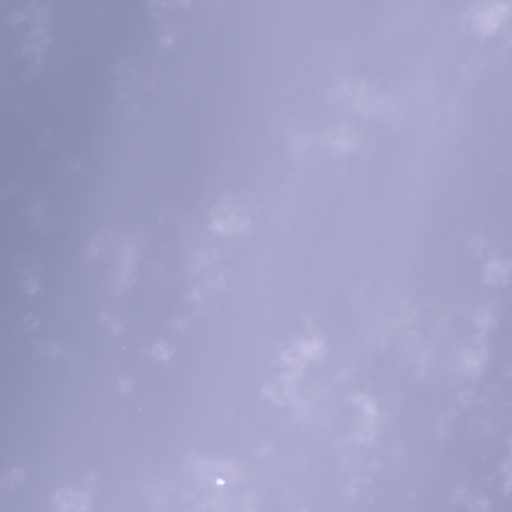Iceberg: (216, 478, 224, 484)
